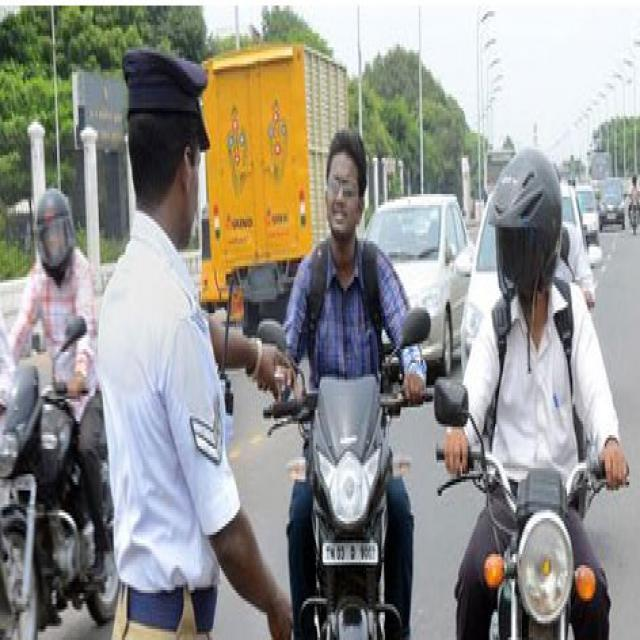No helmet: (322, 132, 379, 259)
